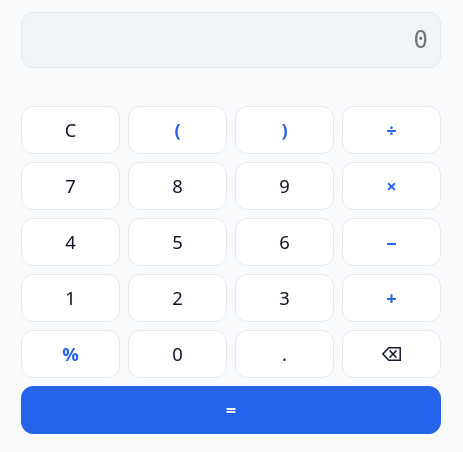
Scenario: CalculatorWidget › shows an error for division by zero and clears it when editing
Type "8/0" into the field named "นิพจน์ที่ต้องการคำนวณ" at (231, 40), box [21, 12, 441, 68]
Then press Enter
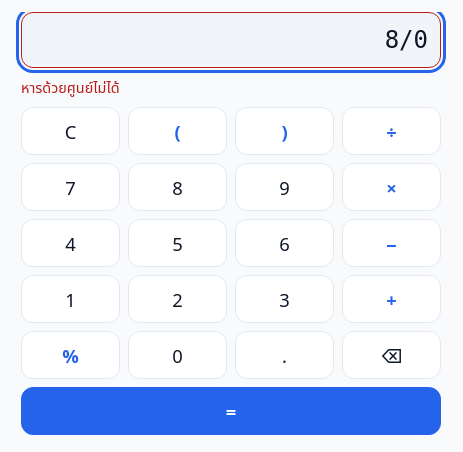
Expected: the message reads "หารด้วยศูนย์ไม่ได้", [21, 78, 120, 97]
Click the button named "ลบตัวสุดท้าย" at (392, 355), box [342, 331, 441, 379]
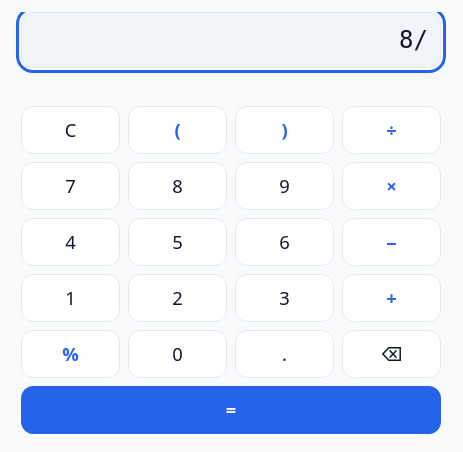
Expected: the message is empty, [21, 76, 441, 98]
Expected: the field named "นิพจน์ที่ต้องการคำนวณ" holds "8/", [21, 12, 441, 68]
